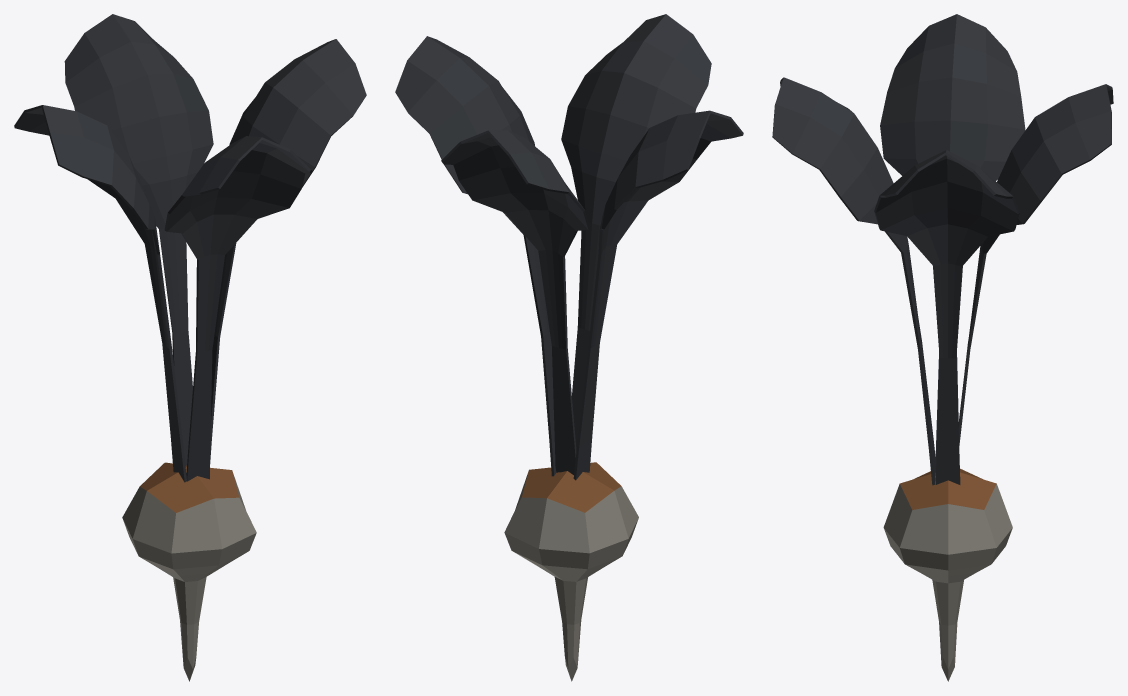
Rendered from cc0-turnip-lod1.glb.
The picture shows the model from 3 angles, left to right: view 1: azimuth 30°, elevation 25°; view 2: azimuth 150°, elevation 25°; view 3: azimuth 270°, elevation 25°; orthographic projection.
Parts seen in each view (by area): view 1: part_0; view 2: part_0; view 3: part_0.
Part boxes in pixels (x1,y1,x2,y2): part_0: [14, 14, 366, 681]; part_0: [395, 14, 743, 681]; part_0: [772, 14, 1113, 681].
Size of the model in its own units: 1.25 by 2.39 by 1.23.
